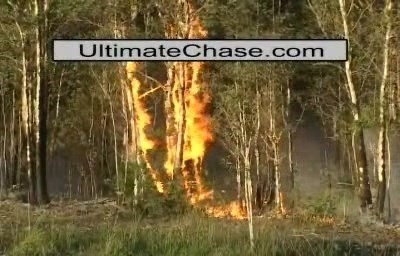fire: (137, 62, 217, 208), (113, 63, 162, 199), (162, 0, 208, 38), (206, 196, 248, 220)
